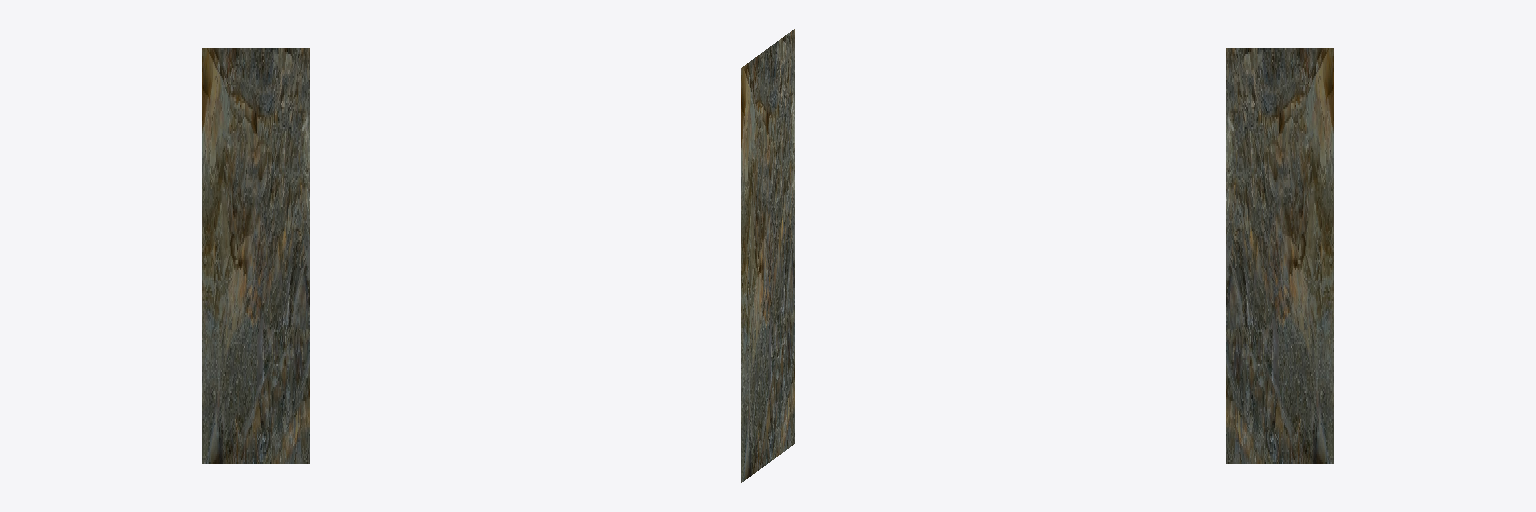
3 renders of one model, left to right at view 1: azimuth 90°, elevation 25°; view 2: azimuth 150°, elevation 25°; view 3: azimuth 270°, elevation 25°, orthographic.
Parts seen in each view (by area): view 1: 平面.002; view 2: 平面.002; view 3: 平面.002.
Part boxes in pixels (bbox=[...]): 平面.002: bbox=[202, 48, 309, 463]; 平面.002: bbox=[741, 29, 794, 482]; 平面.002: bbox=[1226, 48, 1333, 463].
Bounding box in the file's own units: 0 × 8.44 × 2.
1 materials, 1 textured.